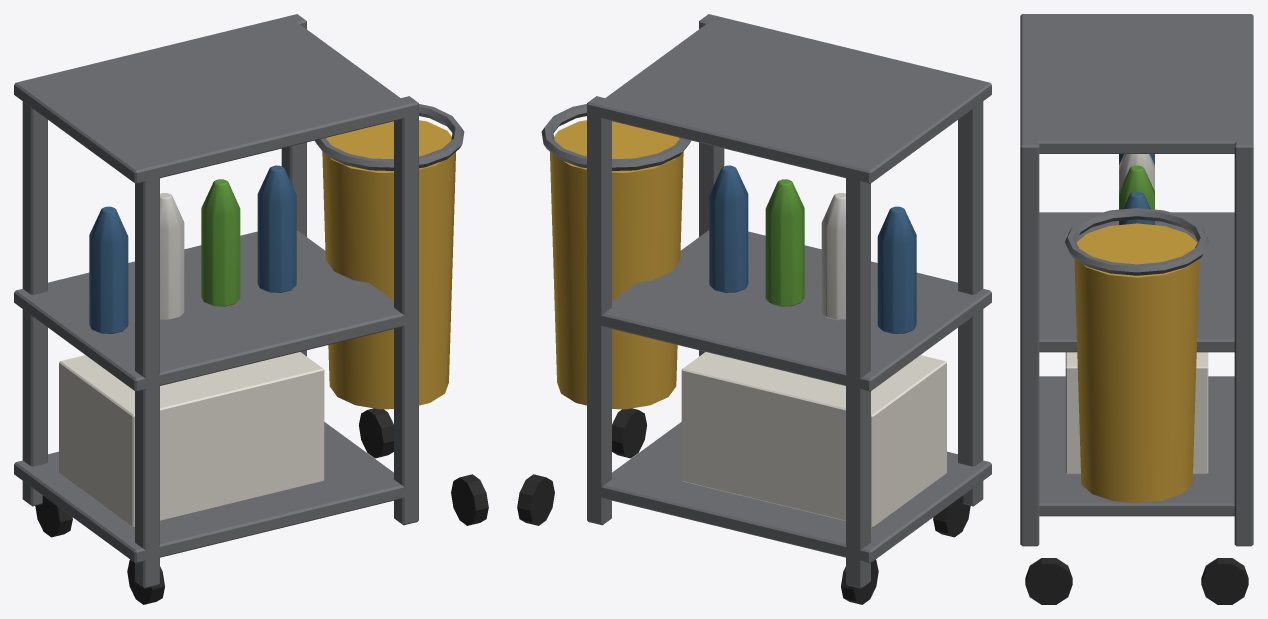
File: prop_cleaner_cart.glb
3 renders of one model, left to right at view 1: azimuth 30°, elevation 25°; view 2: azimuth 150°, elevation 25°; view 3: azimuth 270°, elevation 25°, orthographic. The views are drawn at different scales.
Visible parts, largest first — view 1: Cart; view 2: Cart; view 3: Cart.
Boxes of the visible parts, left/top/right/bottom form: Cart: left=14, top=14, right=488, bottom=604; Cart: left=517, top=14, right=991, bottom=604; Cart: left=1020, top=14, right=1253, bottom=604.
Size of what is drawn, in the model's own units: 0.882 by 0.9876 by 0.49.
